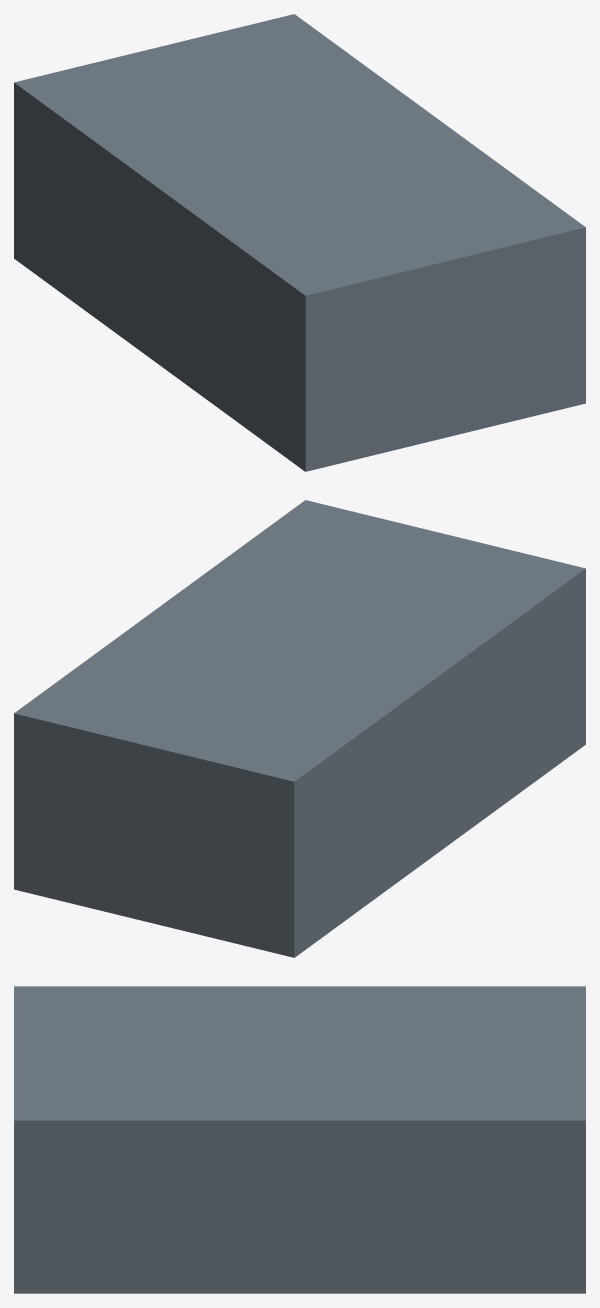
File: city_atm_machine.glb
3 views of the same model, one above another, from view 1: azimuth 30°, elevation 25°; view 2: azimuth 150°, elevation 25°; view 3: azimuth 270°, elevation 25° (orthographic).
Parts seen in each view (by area): view 1: atm_body; view 2: atm_body; view 3: atm_body.
Boxes of the visible parts, box(x1,y1,x2,y2) form: atm_body: box(14, 14, 585, 471); atm_body: box(14, 500, 585, 957); atm_body: box(14, 986, 585, 1293).
Bounding box in the file's own units: 0.75 × 0.4925 × 1.35.
